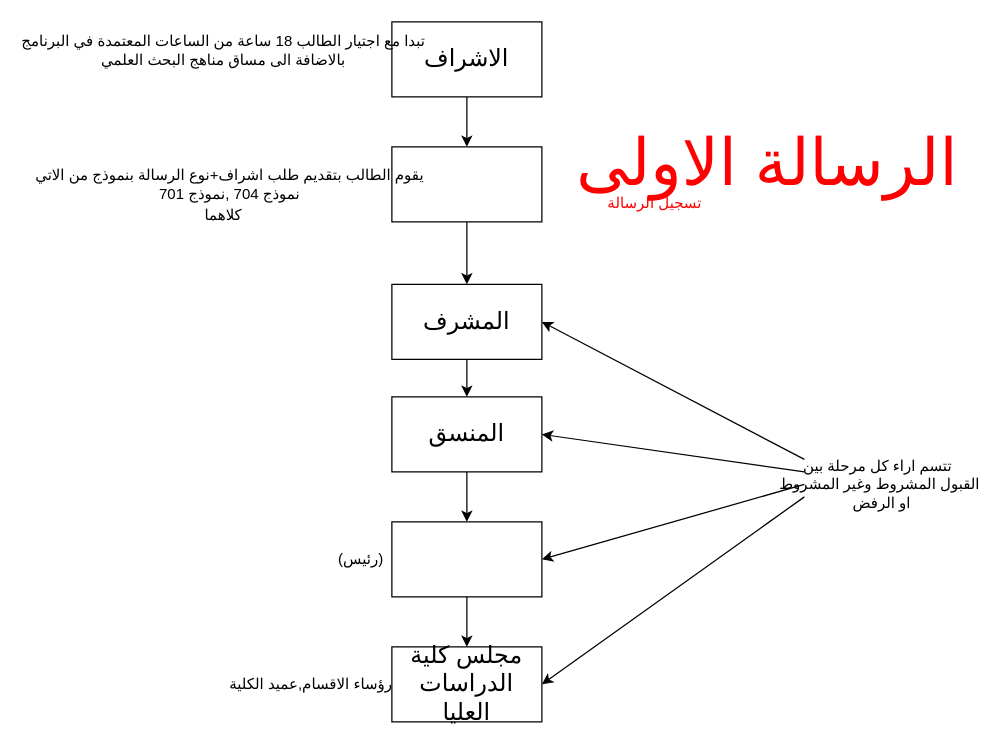
Image size: 1001x749. Some labels were removed from this diagram. Each missing label, with the box of its shape:
الطالب: (391, 146, 542, 222)
قسم: (391, 521, 542, 597)
